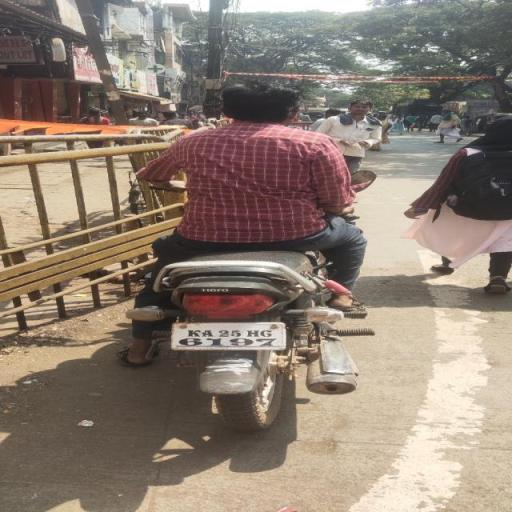bike: (108, 78, 388, 440)
numberplate: (176, 322, 286, 353)
withouthelmet: (224, 83, 302, 122)
